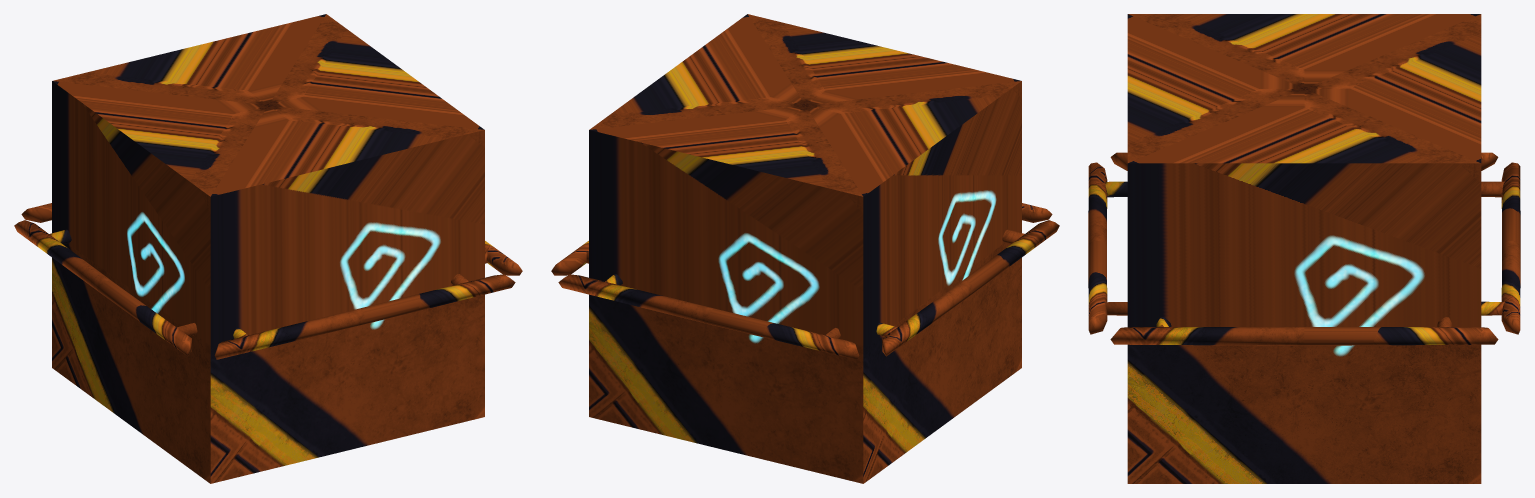
File: Box with Handrails.fbx
3 views of the same model, side by side, from view 1: azimuth 30°, elevation 25°; view 2: azimuth 150°, elevation 25°; view 3: azimuth 270°, elevation 25° (orthographic). The views are drawn at different scales.
Parts seen in each view (by area): view 1: Box; view 2: Box; view 3: Box.
Boxes of the visible parts, x1,y1,x2,y2 form: Box: (14,14,522,483); Box: (551,14,1059,483); Box: (1088,14,1520,483).
Size of the model in its own units: 244 by 200 by 244.
